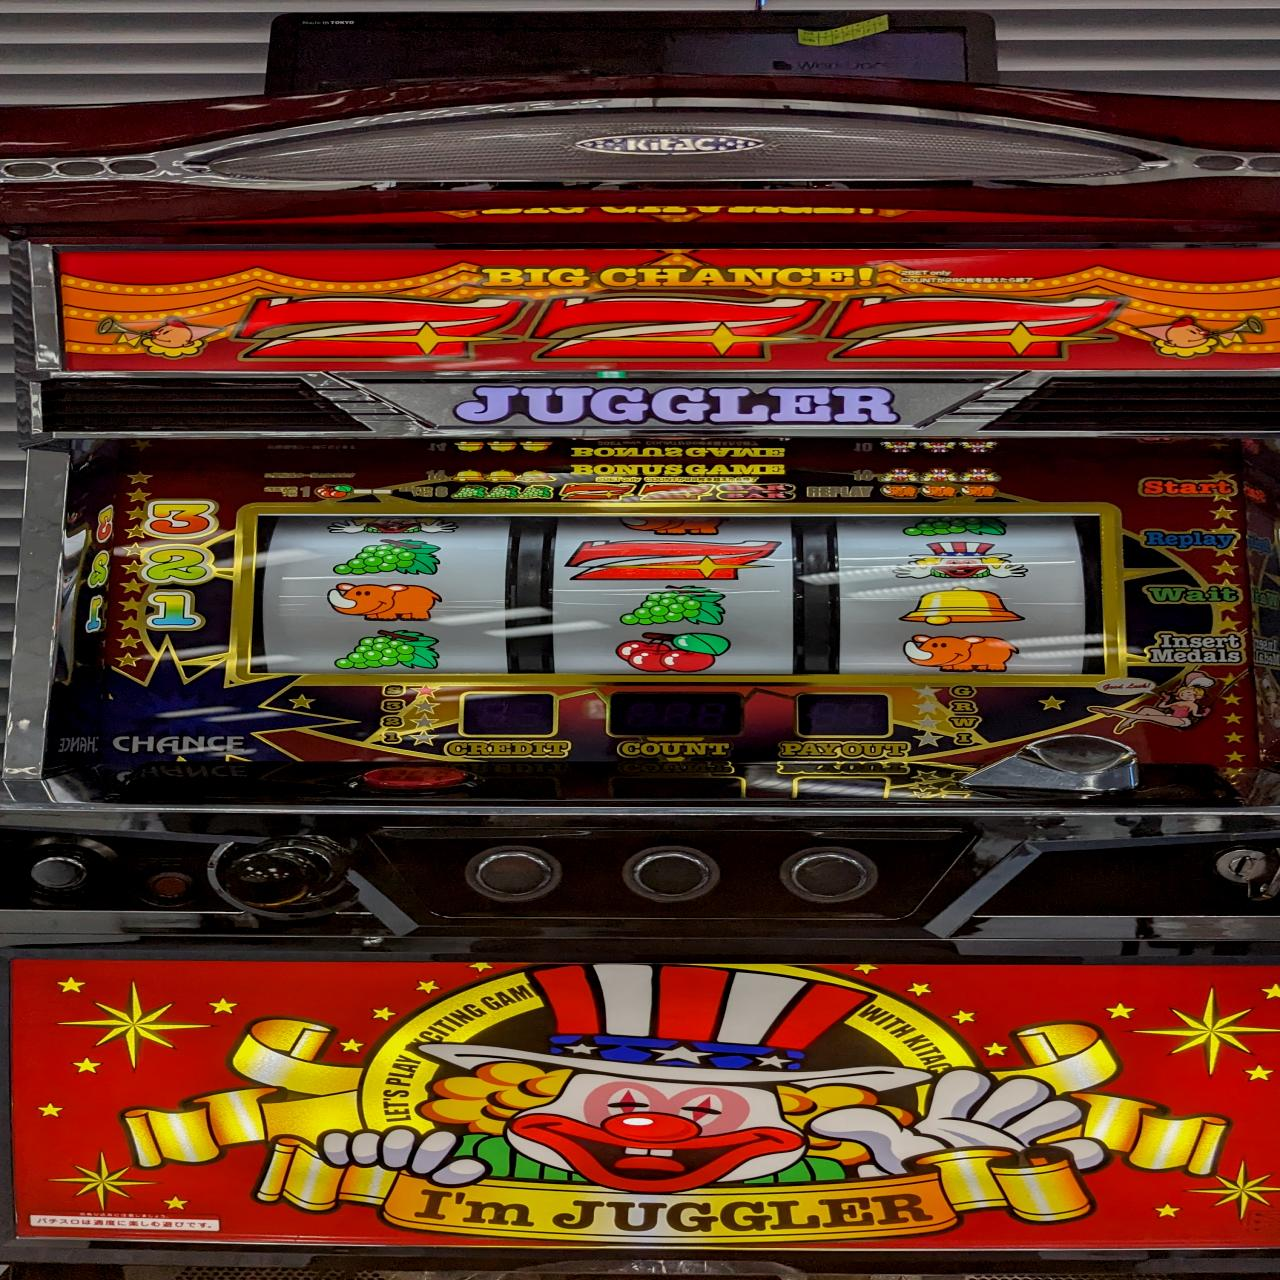7: (563, 539, 778, 583)
Display: (238, 504, 1118, 683)
bell: (899, 586, 1024, 628)
cherry: (614, 632, 730, 674)
clown: (890, 539, 1027, 581)
grape: (619, 583, 729, 625), (334, 629, 444, 670), (331, 540, 440, 576)
rhino: (896, 634, 1020, 675), (328, 584, 442, 624)
